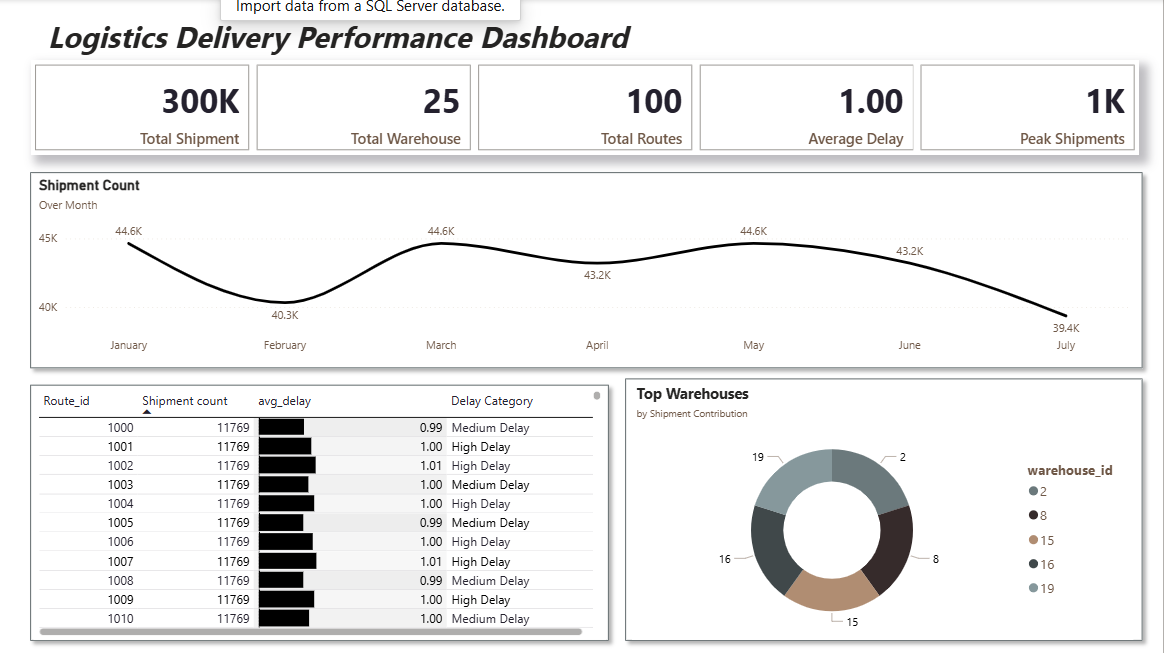

This screenshot's page, from the dashboard's own definition file:
{"tool":"powerbi","page":{"name":"Page 1","canvas":[1280,720],"ordinal":0},"visuals":[{"type":"shape","box":[27.4,414.4,653.2,299.1],"z":0},{"type":"shape","box":[680.6,407.5,585.9,306],"z":1000},{"type":"shape","box":[27.4,181.1,1239.1,233.3],"z":2000},{"type":"lineChart","title":"Shipment Count","fields":{"Y":["Sum(shipment_trend.count)"],"Category":["shipment_trend.shipment_day.Variation.Date Hierarchy.Month"]},"box":[41.2,194.9,1206.2,203.1],"z":3000},{"type":"tableEx","fields":{"Values":["route_delay_summary.route_id","warehouse_volume.count","route_delay_summary.avg_delay","route_delay_summary.Delay Category"]},"box":[39.8,425.4,628.5,278.6],"z":4000},{"type":"cardVisual","fields":{"Data":["route_delay_summary.Total Shipment","route_delay_summary.Total Warehouse","route_delay_summary.Total Routes","route_delay_summary.Average Delay","route_delay_summary.Peak Shipments"]},"box":[37,67.2,1217.2,104.3],"z":5000},{"type":"donutChart","title":"Top Warehouses","fields":{"Y":["Count(warehouse_volume.count)"],"Category":["warehouse_volume.warehouse_id"]},"box":[697.1,421.3,550.3,282.7],"z":6000},{"type":"textbox","box":[50.8,15.1,758.8,52.1],"z":7000}]}

Visuals, with their boxes on the page's 1280x720 design canvas (x1, y1, x2, y2). These are canvas units, not pixel positions in the 1164x653 screenshot, which may show the page scaled, cropped or inside an application window:
shape: box(27, 414, 681, 714)
shape: box(681, 408, 1266, 714)
shape: box(27, 181, 1266, 414)
"Shipment Count" lineChart: box(41, 195, 1247, 398)
tableEx - route_delay_summary.route_id x warehouse_volume.count: box(40, 425, 668, 704)
cardVisual - route_delay_summary.Total Shipment x route_delay_summary.Total Warehouse: box(37, 67, 1254, 172)
"Top Warehouses" donutChart: box(697, 421, 1247, 704)
textbox: box(51, 15, 810, 67)
